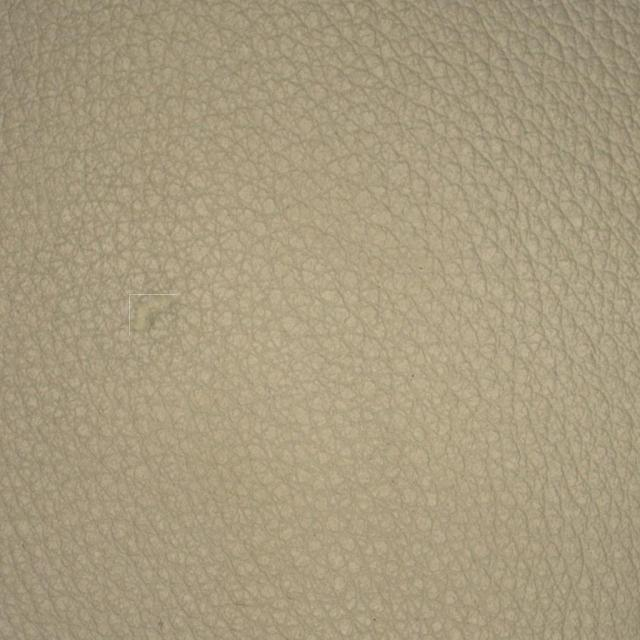Bacterial Injury: (81, 248, 238, 370)
